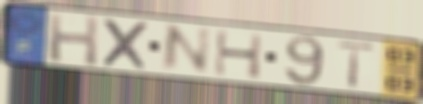9: (281, 34, 328, 87)
H: (47, 11, 101, 70), (212, 28, 266, 81)
N: (157, 23, 214, 75)
T: (333, 39, 380, 89)
X: (99, 17, 151, 72)
